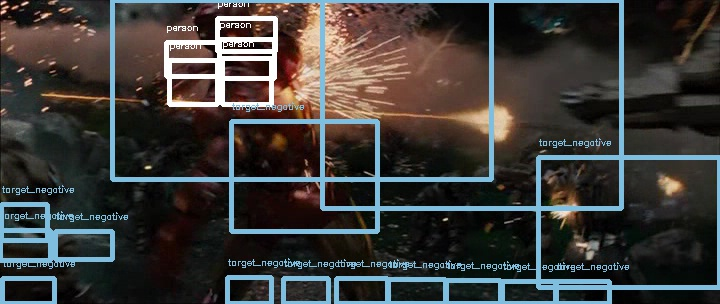person: (197, 3, 254, 65), (196, 3, 253, 65), (198, 3, 255, 65), (197, 2, 254, 64), (197, 4, 254, 66)
target_negative: (315, 117, 554, 256), (423, 180, 663, 220), (462, 32, 599, 100), (667, 250, 694, 280), (693, 164, 699, 292), (630, 17, 652, 21)
